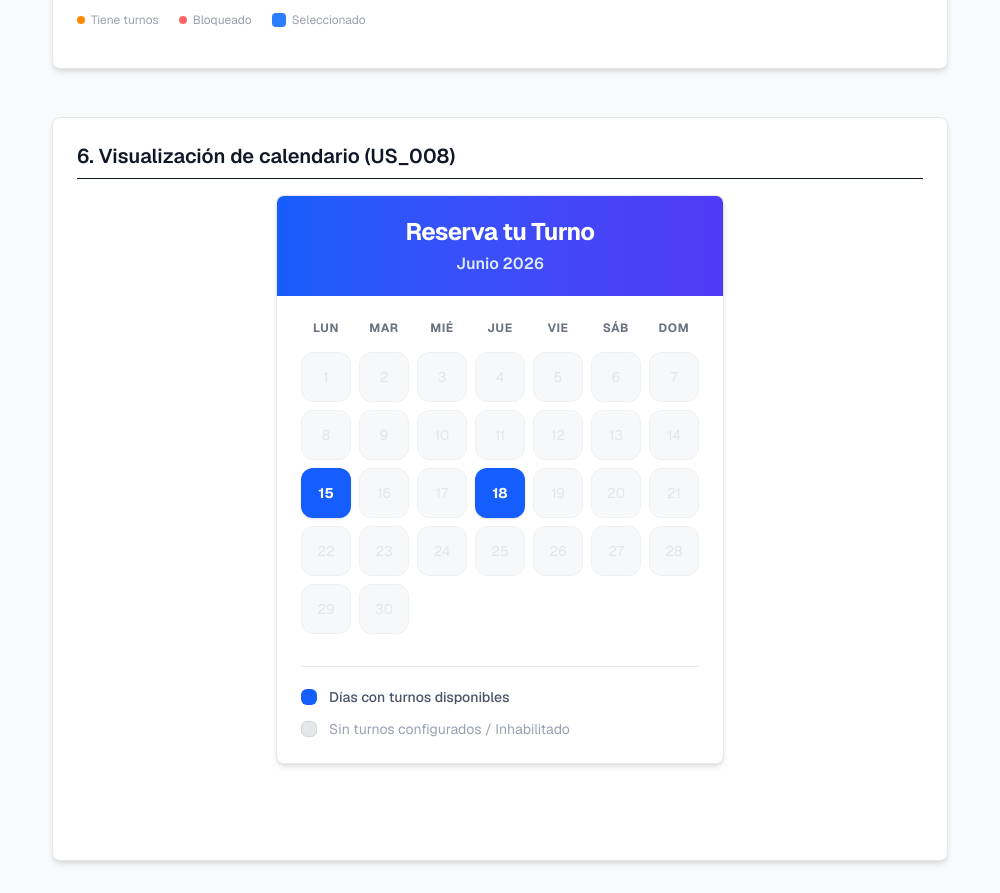
Scenario: US_008: Visualización de calendario público (Componente Visualización de Calendario) › Debería permitir seleccionar un día con turnos disponibles (CP-008-01)
(page scrolled)
Note: el día 15 está disponible, hacemos click
Click the button with test id "dia-15". click: (326,493)
box: [301, 468, 351, 518]
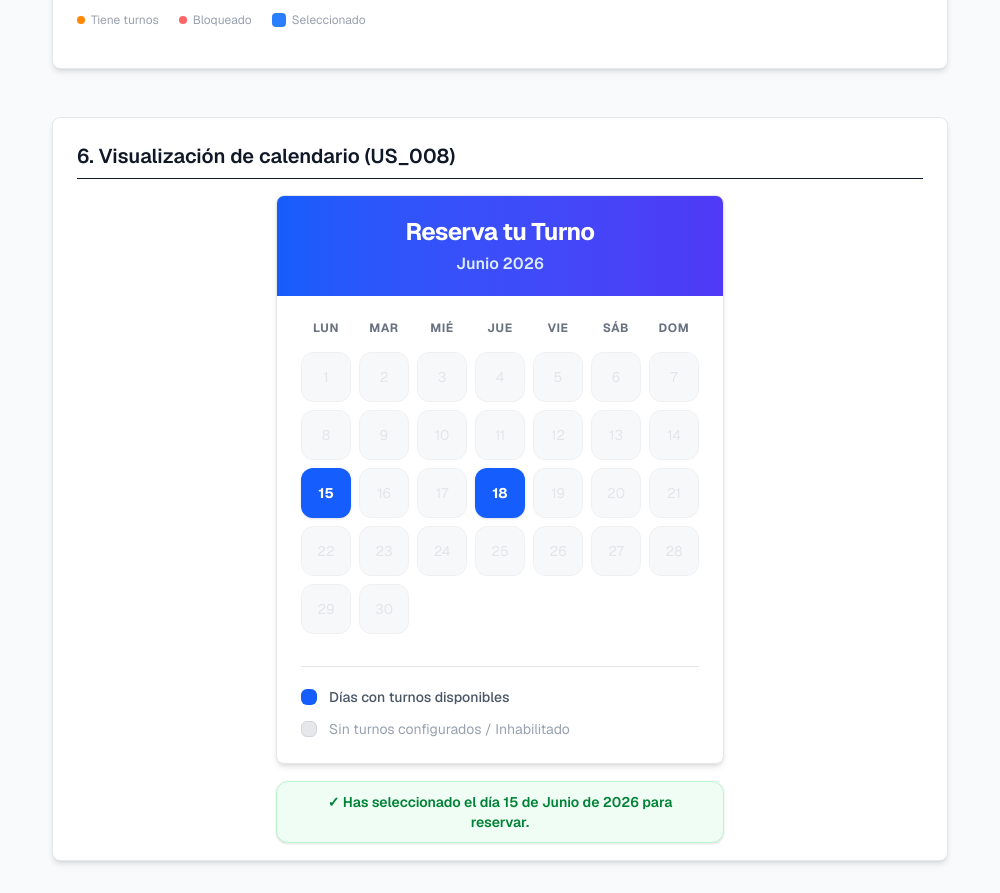
Check: the text "✓ Has seleccionado el día 15 de Junio de 2026 para reservar." is shown, box [276, 781, 724, 843]
Check: the text with test id "mensaje-seleccion" shows "Has seleccionado el día 15", box [328, 793, 673, 831]
